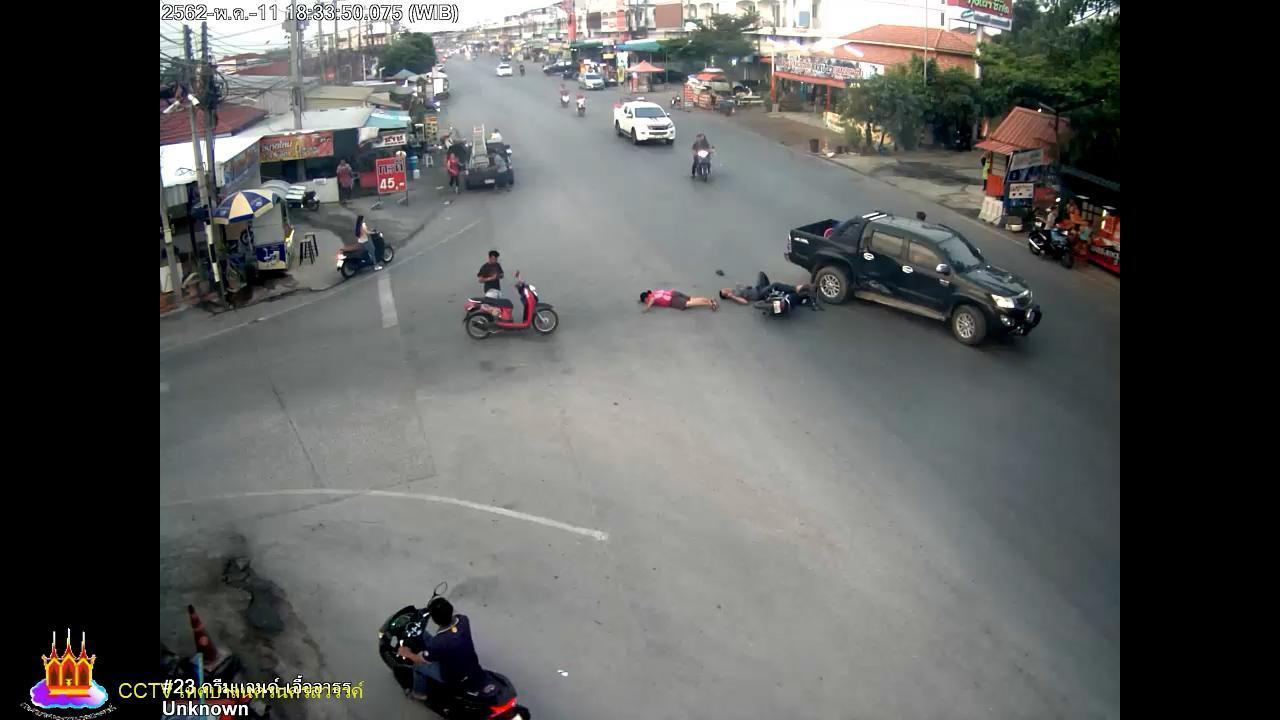accident: (635, 286, 719, 319), (719, 270, 778, 307)
